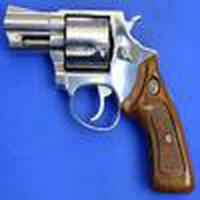gun: (4, 5, 199, 192)
